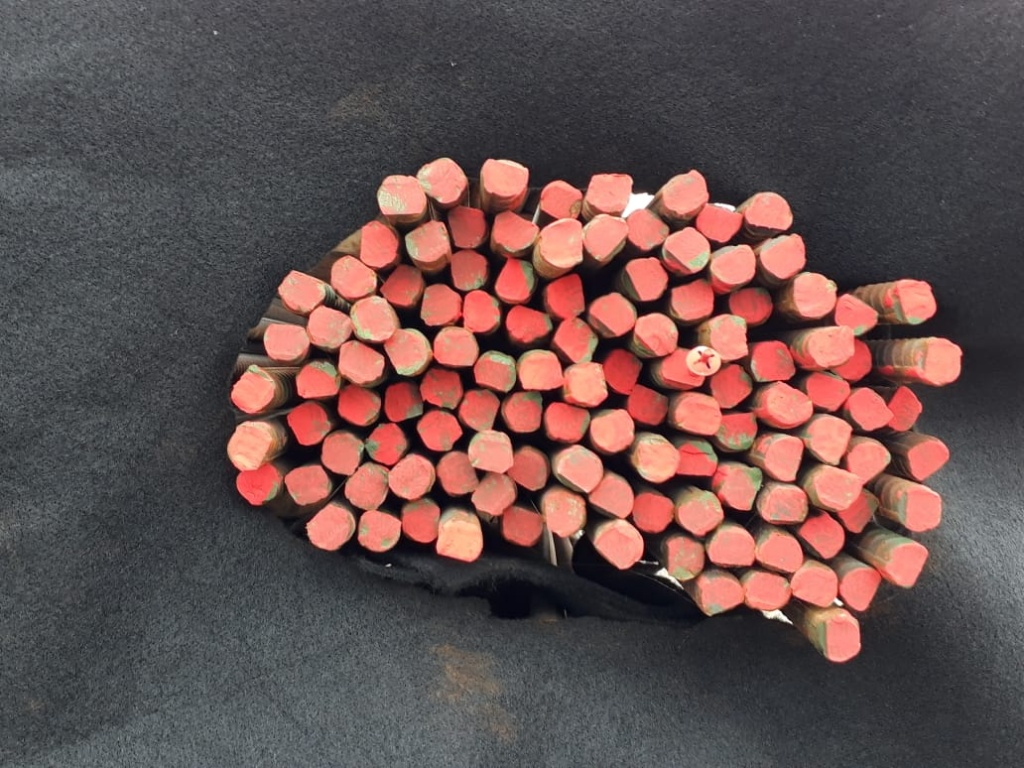dipstick: (417, 158, 467, 203), (538, 218, 583, 267), (588, 292, 637, 337), (807, 416, 852, 465), (306, 505, 355, 549), (761, 384, 812, 426), (557, 445, 602, 492), (542, 489, 586, 537), (594, 526, 643, 569), (553, 318, 598, 364), (583, 215, 628, 261), (385, 329, 430, 374), (633, 438, 679, 482), (678, 491, 724, 535), (815, 615, 859, 661), (813, 466, 861, 508), (893, 279, 937, 324), (350, 297, 396, 340), (789, 566, 837, 607), (227, 426, 271, 470), (345, 467, 389, 511), (800, 515, 844, 559), (664, 229, 709, 272), (794, 272, 837, 317), (917, 338, 960, 383), (416, 409, 462, 451), (848, 388, 894, 430), (661, 173, 708, 214), (307, 305, 350, 349), (761, 234, 804, 278), (468, 431, 513, 473), (508, 445, 550, 490), (331, 256, 377, 297), (338, 341, 384, 382), (437, 521, 483, 562), (378, 175, 425, 215), (278, 270, 325, 310), (719, 467, 762, 510), (231, 372, 275, 414), (565, 362, 607, 406), (623, 258, 667, 300), (633, 312, 677, 354), (710, 364, 752, 408), (471, 474, 516, 515), (359, 220, 398, 267), (405, 220, 448, 262), (287, 403, 330, 445), (388, 455, 430, 498), (420, 368, 463, 410), (590, 408, 633, 450), (751, 339, 794, 381), (848, 442, 890, 485), (357, 511, 401, 552), (697, 202, 741, 243), (887, 544, 928, 588), (589, 477, 634, 517), (587, 173, 632, 213), (809, 326, 854, 366), (603, 349, 642, 395), (380, 264, 423, 305), (494, 210, 538, 250), (285, 465, 330, 504), (545, 402, 590, 441), (518, 349, 563, 388), (546, 274, 585, 319), (757, 533, 802, 572), (896, 491, 941, 530), (482, 158, 528, 196), (711, 315, 749, 361), (674, 396, 720, 434), (746, 193, 793, 230), (338, 385, 380, 426), (366, 424, 408, 465), (399, 500, 440, 542), (437, 451, 478, 493), (474, 351, 516, 392), (502, 505, 544, 546), (671, 278, 713, 319), (835, 294, 877, 335), (838, 492, 880, 533), (841, 568, 881, 611), (710, 244, 755, 282), (764, 436, 802, 481), (745, 572, 791, 609), (628, 385, 669, 426), (908, 439, 949, 480), (832, 338, 872, 380), (495, 258, 534, 301), (460, 388, 499, 431), (626, 210, 669, 249), (434, 327, 478, 365), (699, 578, 743, 616), (235, 463, 280, 500), (506, 305, 551, 342), (709, 529, 755, 565), (729, 286, 772, 324), (661, 348, 704, 386), (807, 372, 850, 410), (760, 487, 808, 521), (420, 284, 459, 325), (540, 180, 581, 219), (449, 206, 487, 248), (463, 290, 500, 333), (667, 537, 704, 580), (296, 361, 340, 397), (264, 324, 309, 359), (384, 382, 423, 422), (716, 411, 756, 450), (322, 433, 360, 474), (504, 390, 542, 431), (633, 492, 672, 531), (887, 386, 920, 430), (451, 250, 487, 290), (676, 441, 715, 475)
